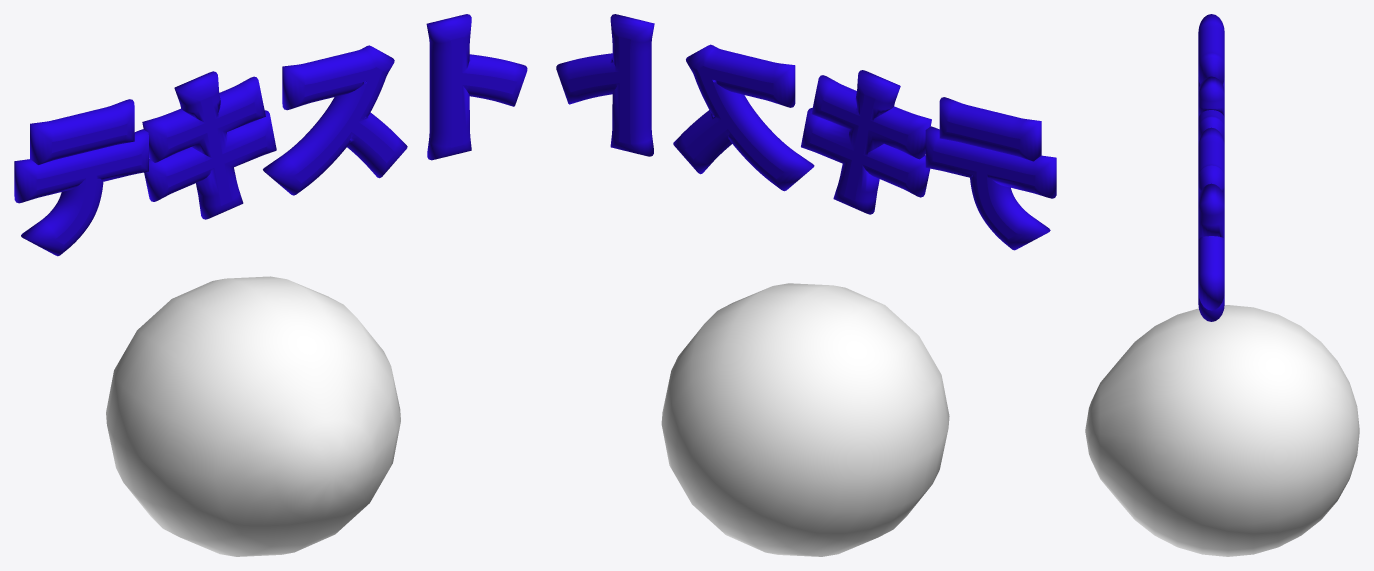
The model's file is asset.glb.
The picture shows the model from 3 angles, left to right: view 1: azimuth 30°, elevation 25°; view 2: azimuth 150°, elevation 25°; view 3: azimuth 270°, elevation 25°; orthographic projection. The views are drawn at different scales.
Visible parts, largest first — view 1: 球, テキスト; view 2: 球, テキスト; view 3: 球, テキスト.
Boxes of the visible parts, <box> form: 球: <box>106,276,400,556</box>; テキスト: <box>14,14,527,256</box>; 球: <box>661,283,949,556</box>; テキスト: <box>556,14,1056,250</box>; 球: <box>1085,305,1359,556</box>; テキスト: <box>1198,14,1224,321</box>.
Size of the model in its own units: 3.98 by 3.65 by 2.08.
